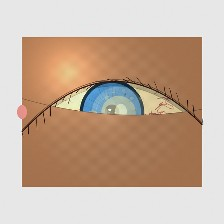corneal_ulcer: (91, 90, 146, 135)
